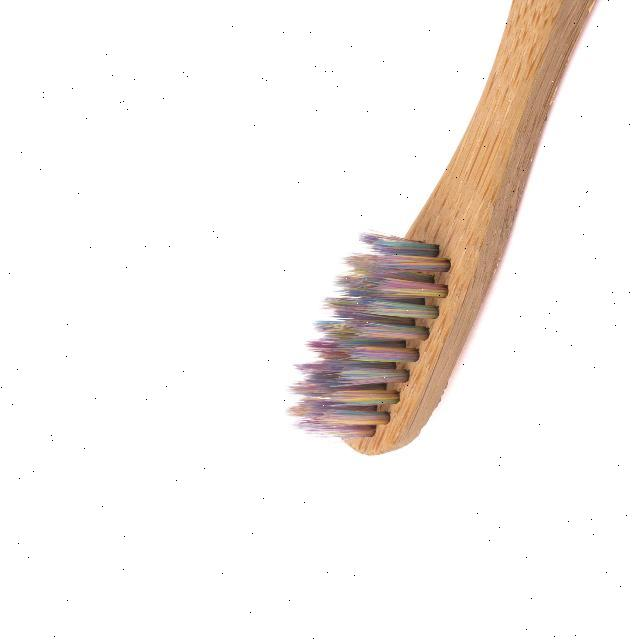toothbrush: (266, 0, 620, 552)
